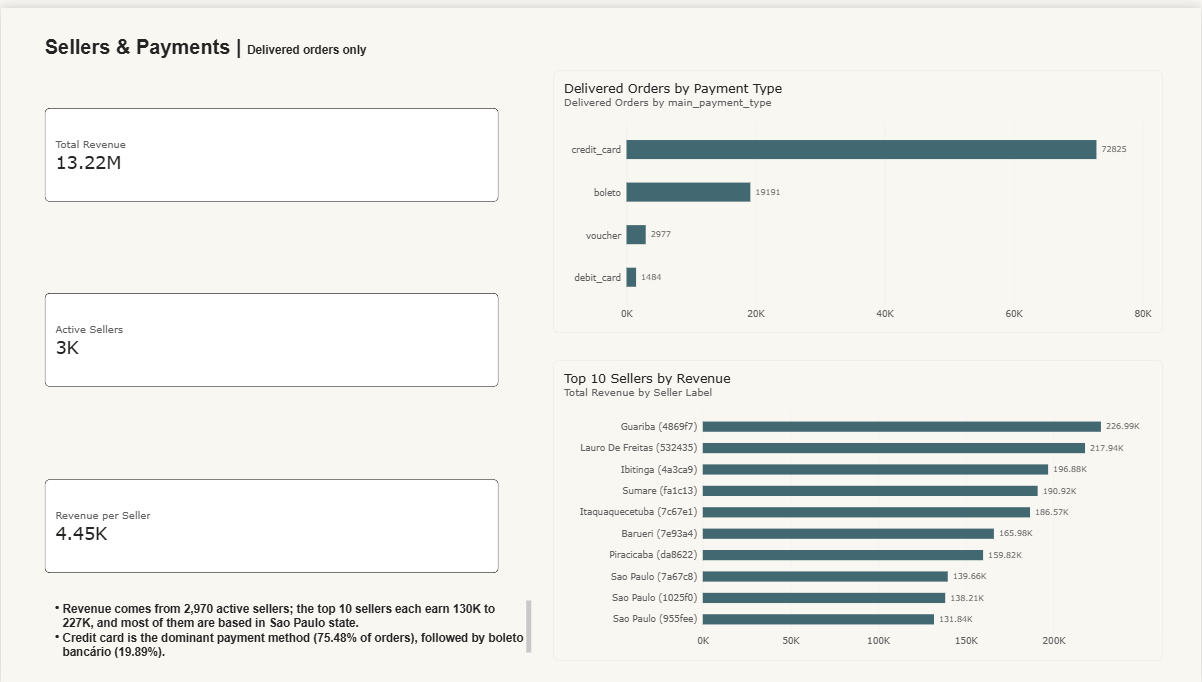

What the dashboard file says about the page in this screenshot:
{"tool":"powerbi","page":{"name":"Products & Sellers","canvas":[1920,1080],"ordinal":3},"visuals":[{"type":"textbox","box":[70,43.3,546.7,50],"z":0},{"type":"cardVisual","fields":{"Data":["Olist_Measures (2).Total Revenue"]},"box":[70,160,726,150],"z":1000},{"type":"cardVisual","fields":{"Data":["Olist_Measures (2).Active Sellers"]},"box":[70,456,726,150],"z":2000},{"type":"cardVisual","fields":{"Data":["Olist_Measures (2).Revenue per Seller"]},"box":[70,754,726,150],"z":3000},{"type":"clusteredBarChart","title":"Top 10 Sellers by Revenue","fields":{"Category":["analytics dim_sellers.Seller Label"],"Y":["Olist_Measures (2).Total Revenue"]},"box":[884,564,974,480],"z":4000},{"type":"clusteredBarChart","title":"Delivered Orders by Payment Type","fields":{"Category":["analytics fact_orders.main_payment_type"],"Y":["Olist_Measures (2).Delivered Orders"]},"box":[884,100,974,420],"z":5000},{"type":"textbox","box":[70,948,778,96],"z":6000}]}

Visuals, with their boxes in screenshot pixels (x1, y1, x2, y2), scaled from the page's 1920x1080 canvas onto the 1202x682 screenshot:
textbox: 44,27,386,59
cardVisual - Olist_Measures (2).Total Revenue: 44,101,498,196
cardVisual - Olist_Measures (2).Active Sellers: 44,288,498,383
cardVisual - Olist_Measures (2).Revenue per Seller: 44,476,498,571
"Top 10 Sellers by Revenue" clusteredBarChart: 553,356,1163,659
"Delivered Orders by Payment Type" clusteredBarChart: 553,63,1163,328
textbox: 44,599,531,659
